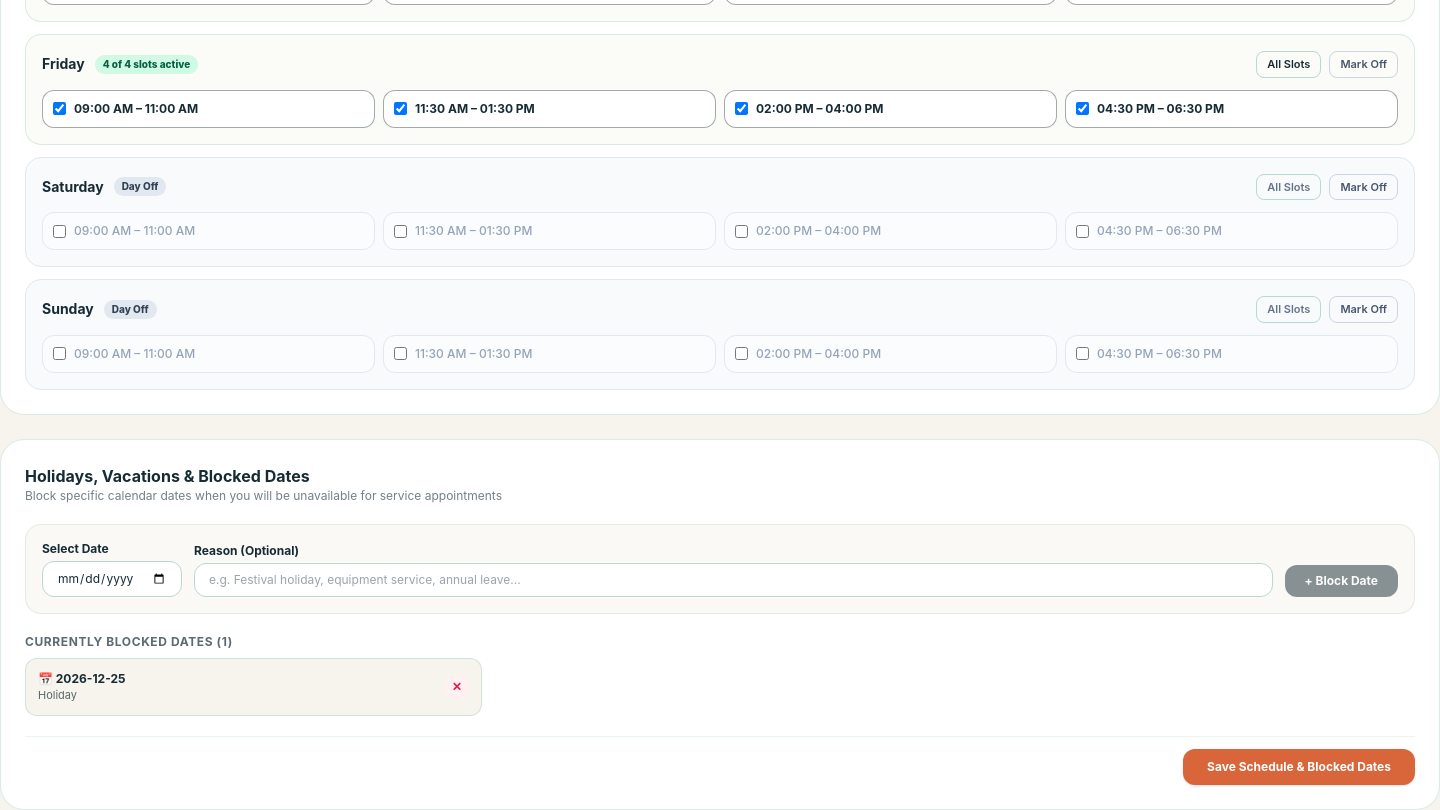
Test: ProviderScheduleView Component › adds and removes blocked dates correctly
(page scrolled)
Expected: the text "📅 2026-12-25" is shown, [38,670,126,686]
In the date field labelled "Select Date": coordinates (112, 578) [42,560,182,596], type "2026-12-31"
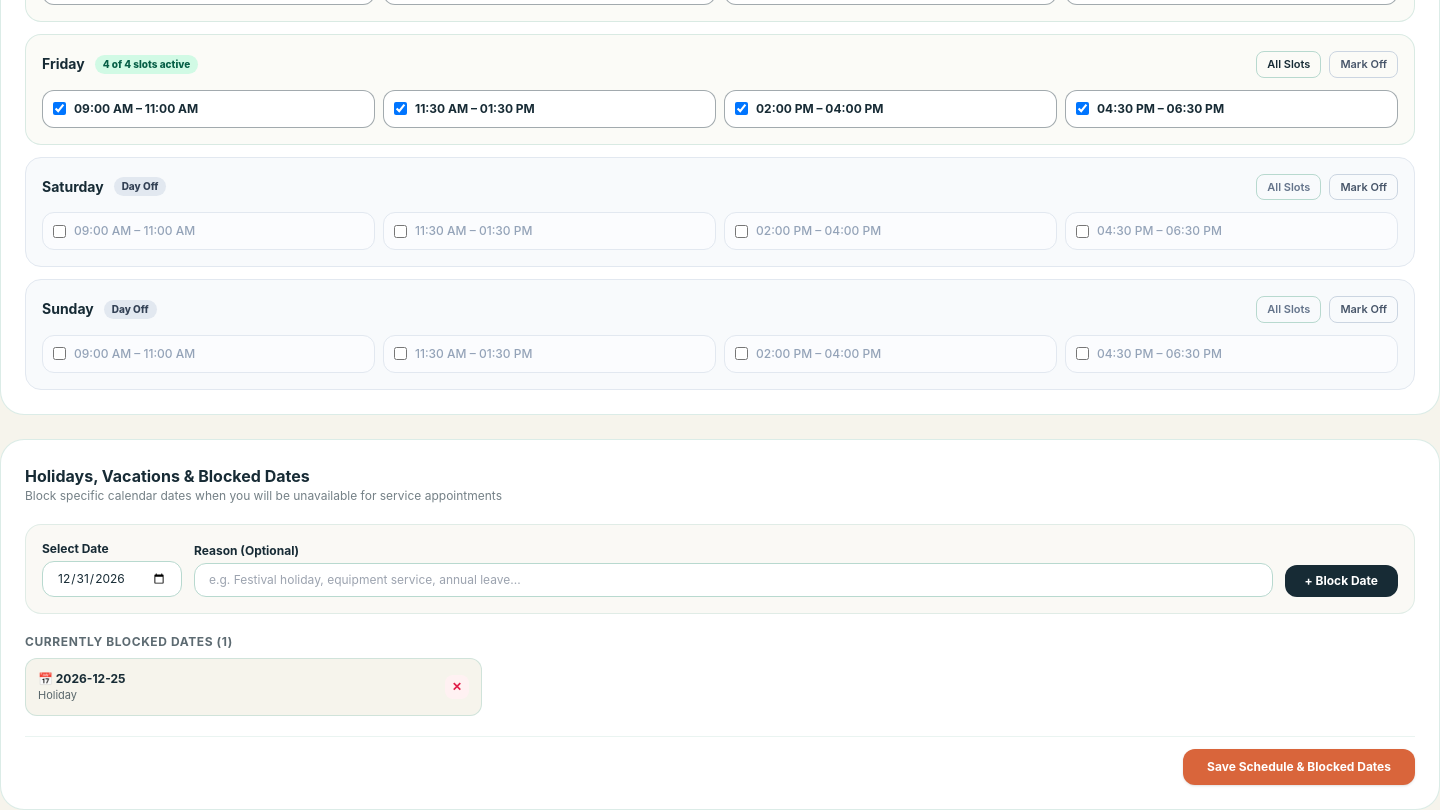
In the field labelled "Reason (Optional)": coordinates (733, 580) [194,562,1272,596], type "New Year Eve"
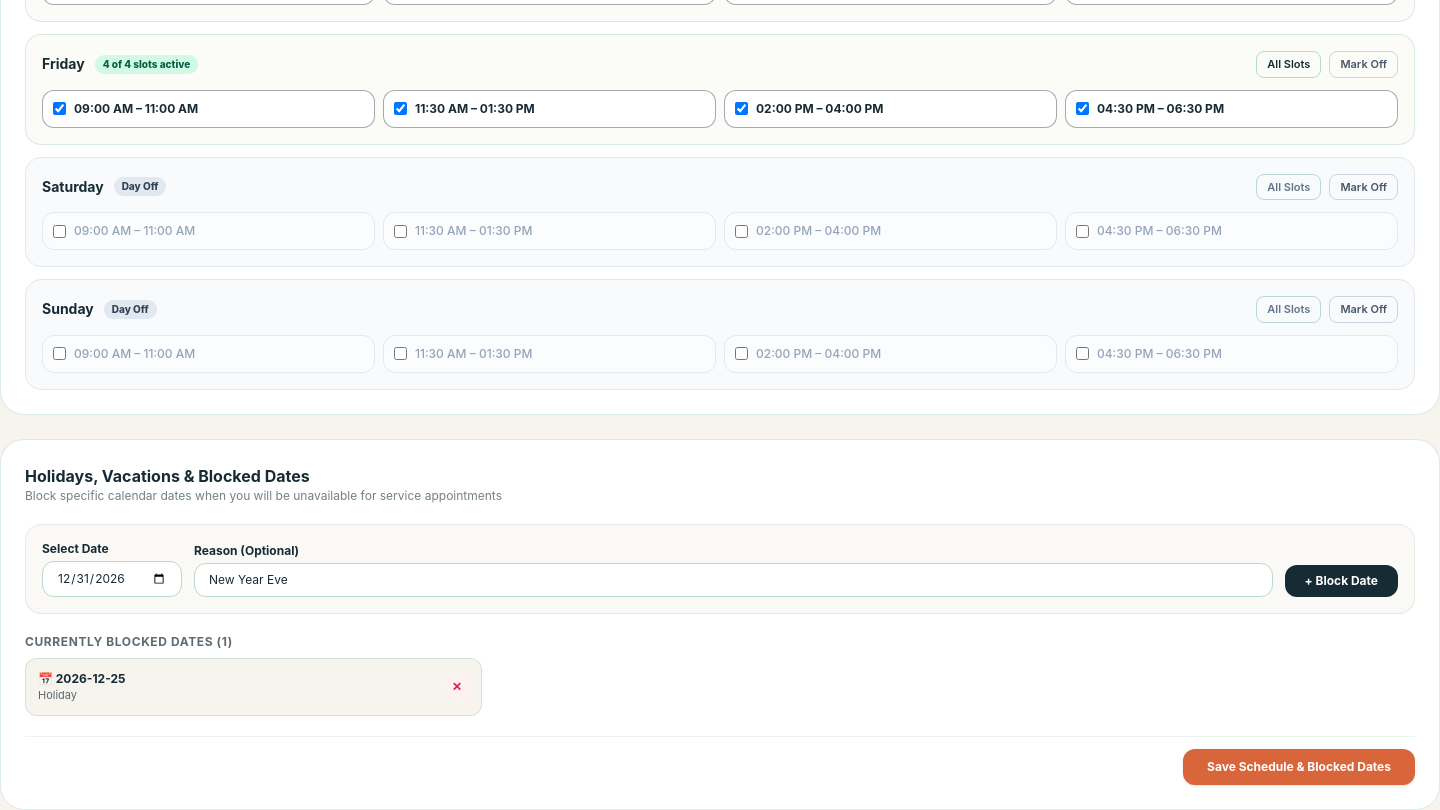
Click the button "+ Block Date": coordinates (1341, 580) [1284,564,1398,596]
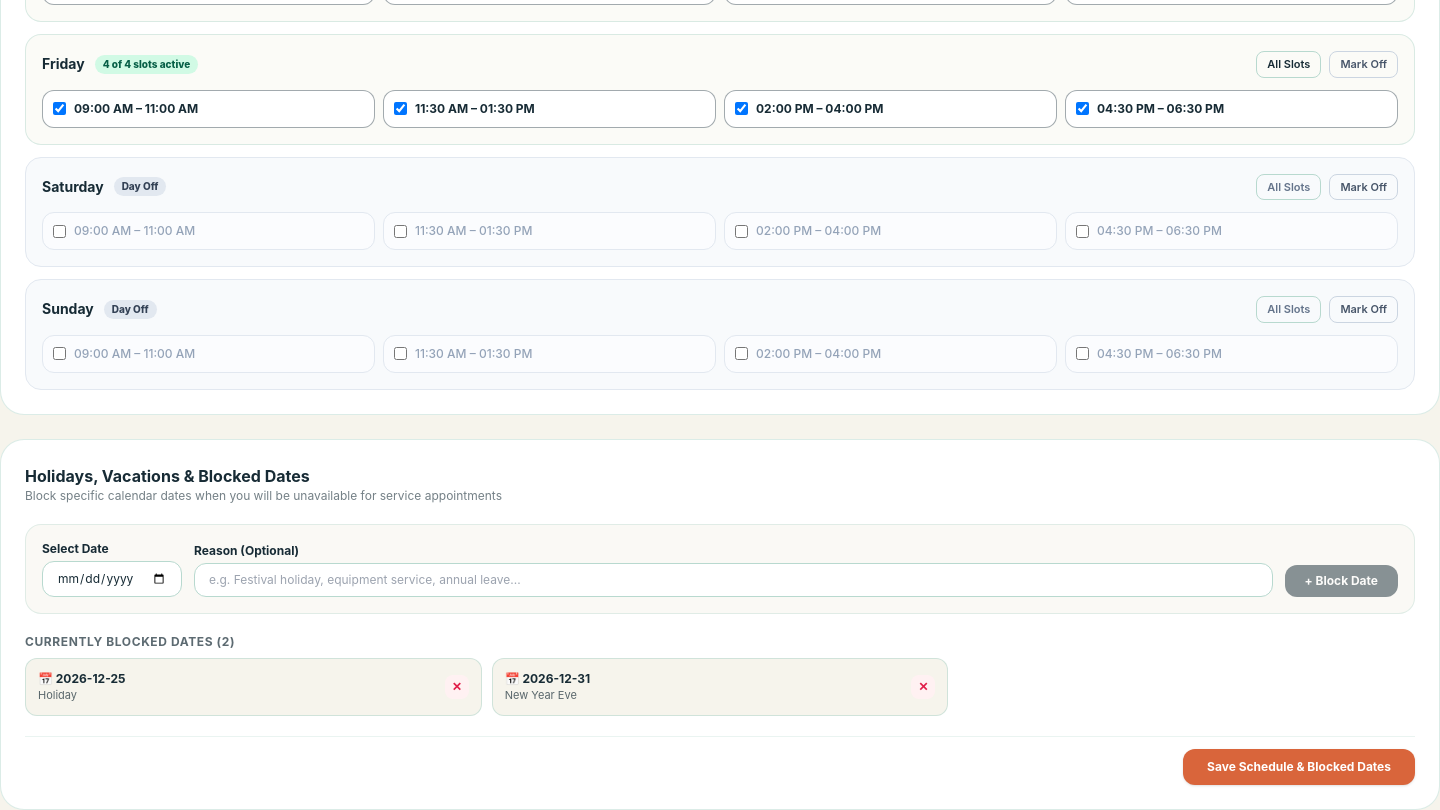
Expected: the text "📅 2026-12-31" is shown, [505,670,590,686]
Expected: the text "New Year Eve" is shown, [505,688,577,702]
// Remove blocked date
Click the button named "Unblock date 2026-12-25": coordinates (457, 686) [445,674,469,698]
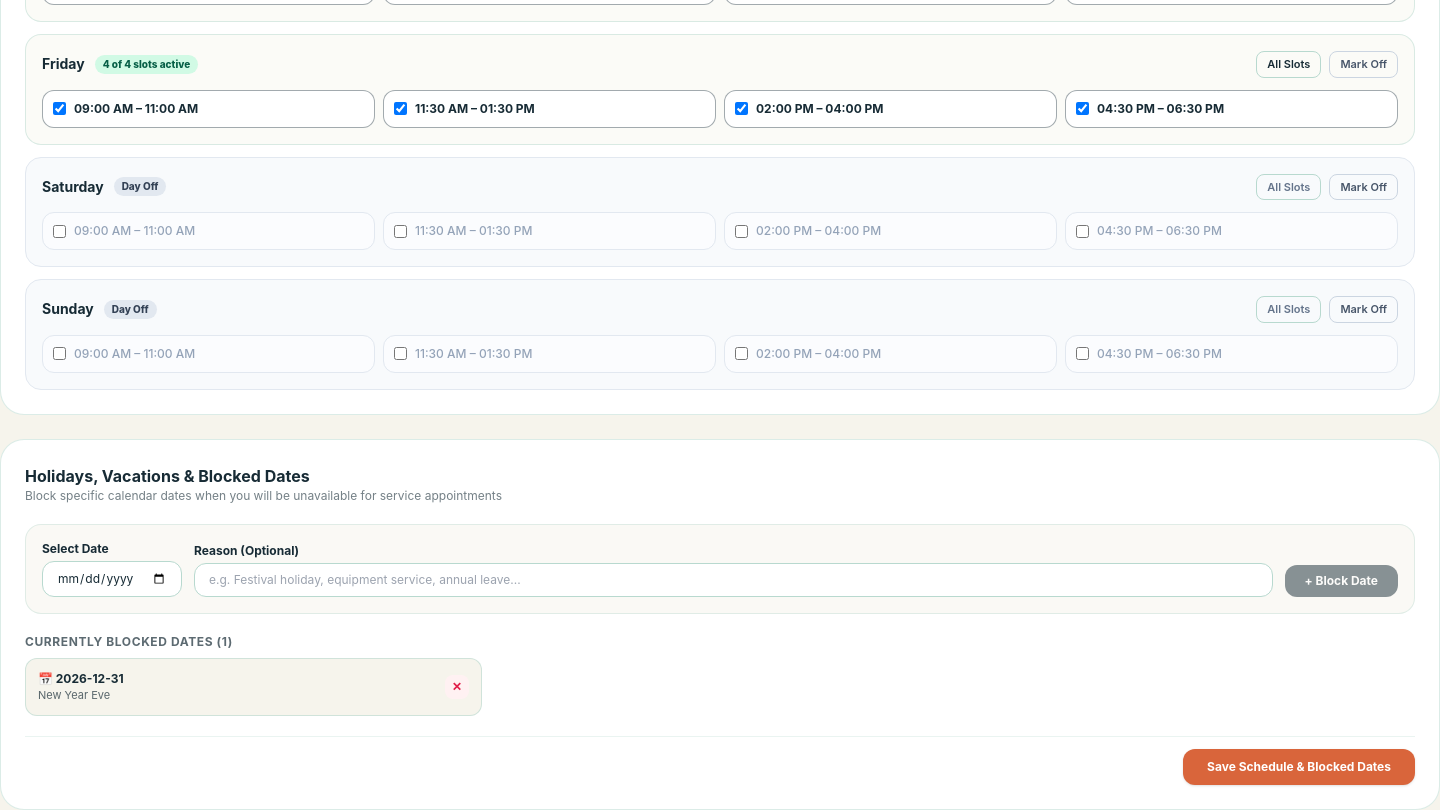
Expected: the text "📅 2026-12-25" is gone
